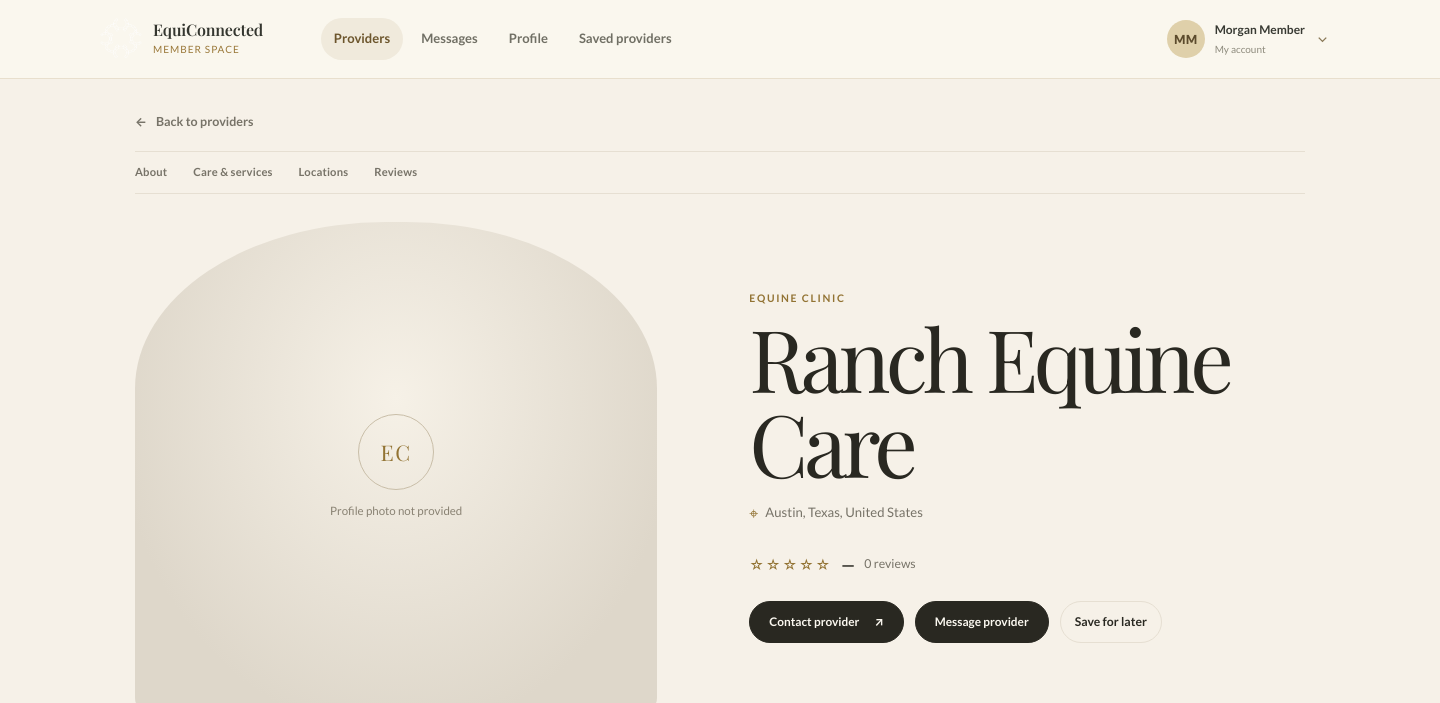
Scenario: AppRouter messages routes › navigates from the actual provider detail message entry into member start mode
Expected: the heading "Ranch Equine Care" is shown, [749,316,1305,486]
Click the link "Message provider" at (982, 622), box [915,601,1049,643]
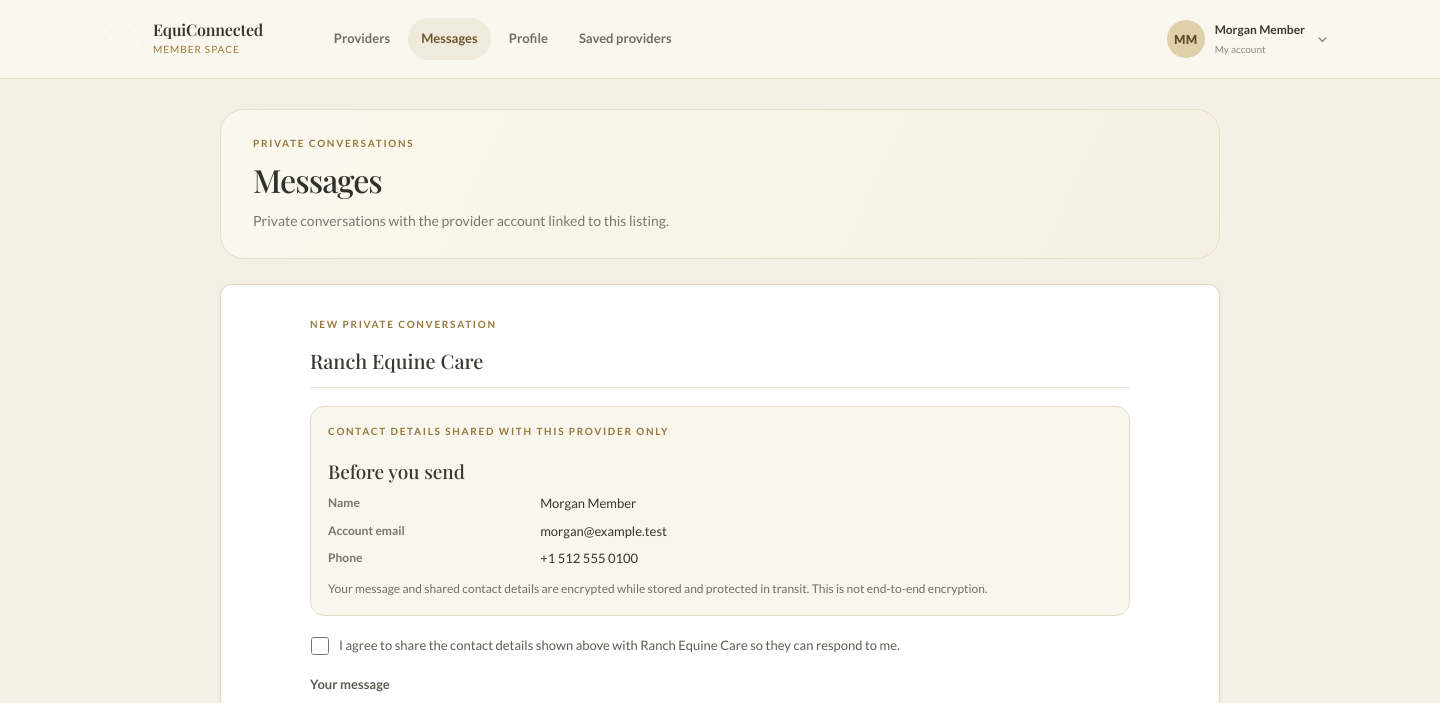
Expected: the number of navigation bars named "Member navigation" is 1, [334,18,672,60]
Expected: the heading "Ranch Equine Care" is shown, [310,347,483,374]
